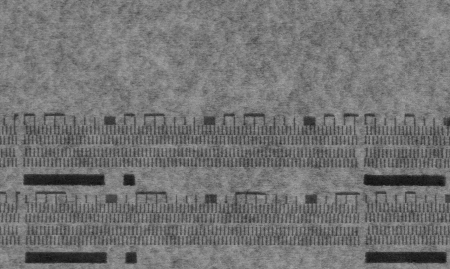Oblique printing: (415, 135, 429, 147)
